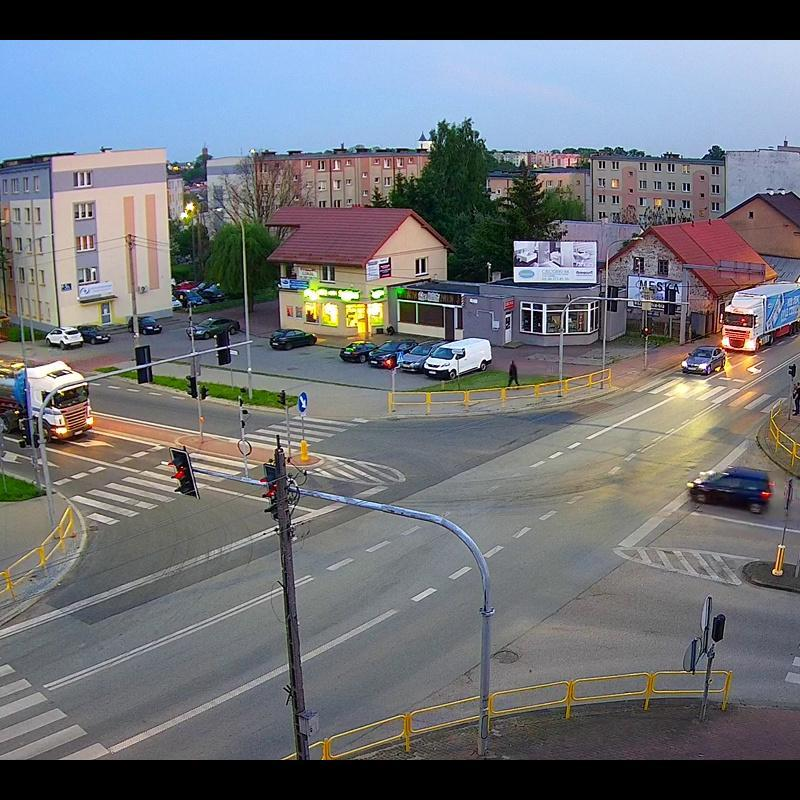car: (686, 465, 776, 516), (423, 334, 492, 378), (398, 338, 443, 374), (368, 336, 416, 368), (681, 344, 726, 374), (268, 326, 318, 350), (186, 316, 240, 336), (43, 327, 86, 352), (127, 313, 166, 336), (75, 322, 113, 344), (340, 341, 376, 364)
people: (507, 359, 521, 388), (794, 382, 800, 417), (0, 386, 6, 409)
truck: (0, 354, 90, 444), (715, 279, 800, 354)
